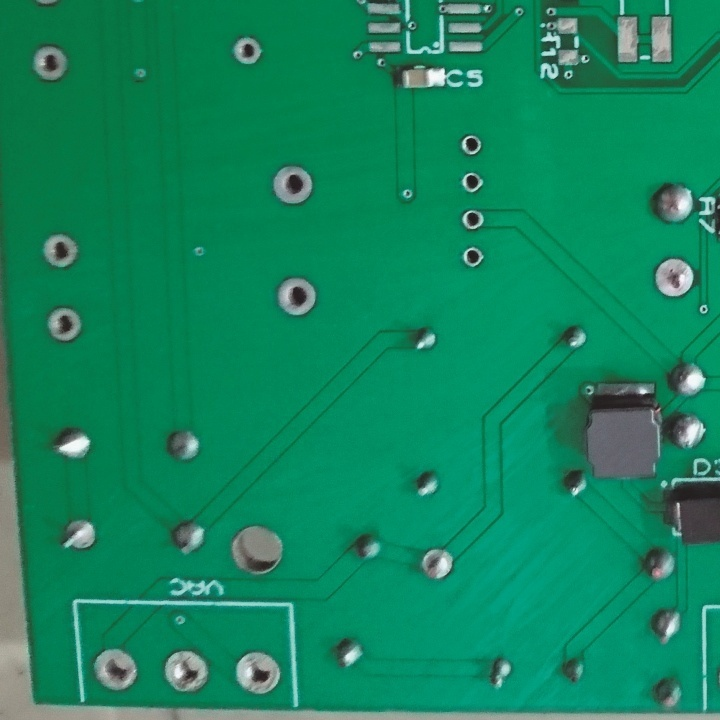F: (231, 647, 287, 697), (87, 644, 141, 693), (161, 646, 213, 695), (267, 163, 319, 207), (650, 253, 696, 302), (273, 272, 319, 320), (28, 43, 71, 91), (37, 232, 82, 275), (56, 518, 102, 557), (415, 545, 458, 586), (42, 306, 84, 347), (227, 33, 267, 69), (456, 241, 487, 272), (460, 207, 486, 234), (461, 170, 486, 195), (459, 134, 484, 158)
